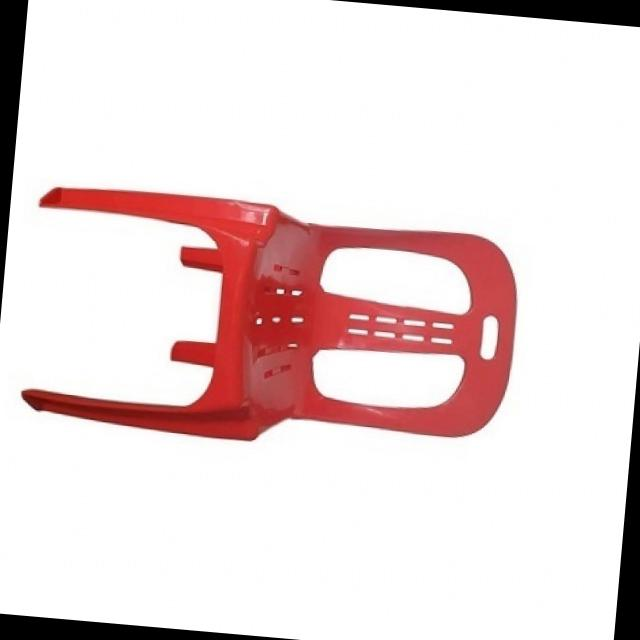Chair: (18, 176, 522, 464)
